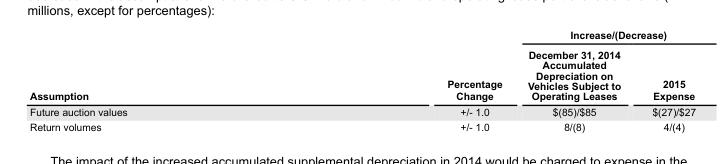table: (29, 29, 695, 132)
table column: (29, 29, 286, 132), (286, 29, 514, 132), (514, 29, 635, 132), (635, 29, 695, 132)
table column header: (29, 29, 695, 103)
table row: (29, 44, 695, 103), (29, 103, 695, 119), (29, 29, 695, 44), (29, 119, 695, 132)
table spanning cell: (29, 29, 286, 103), (286, 29, 514, 103), (514, 29, 695, 44)
